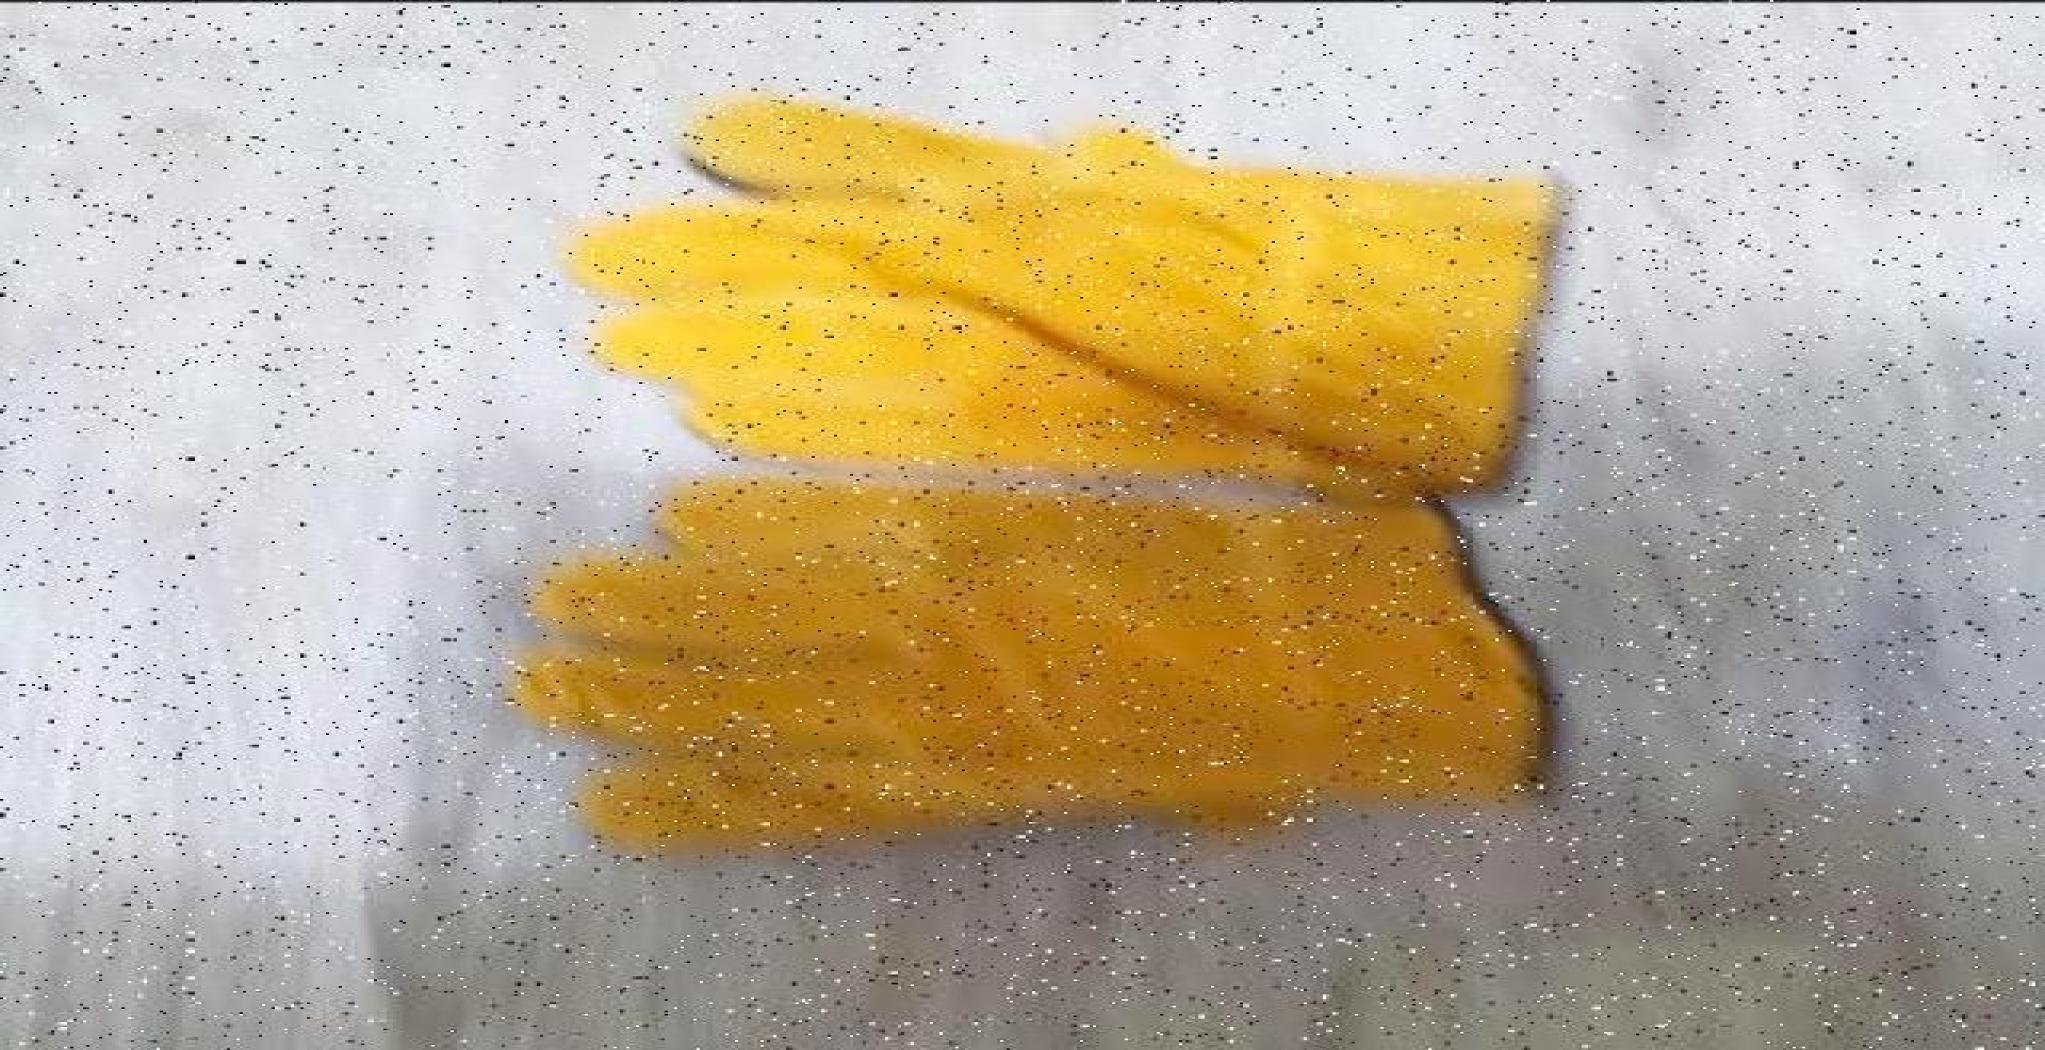gloved: (505, 88, 1563, 858)
